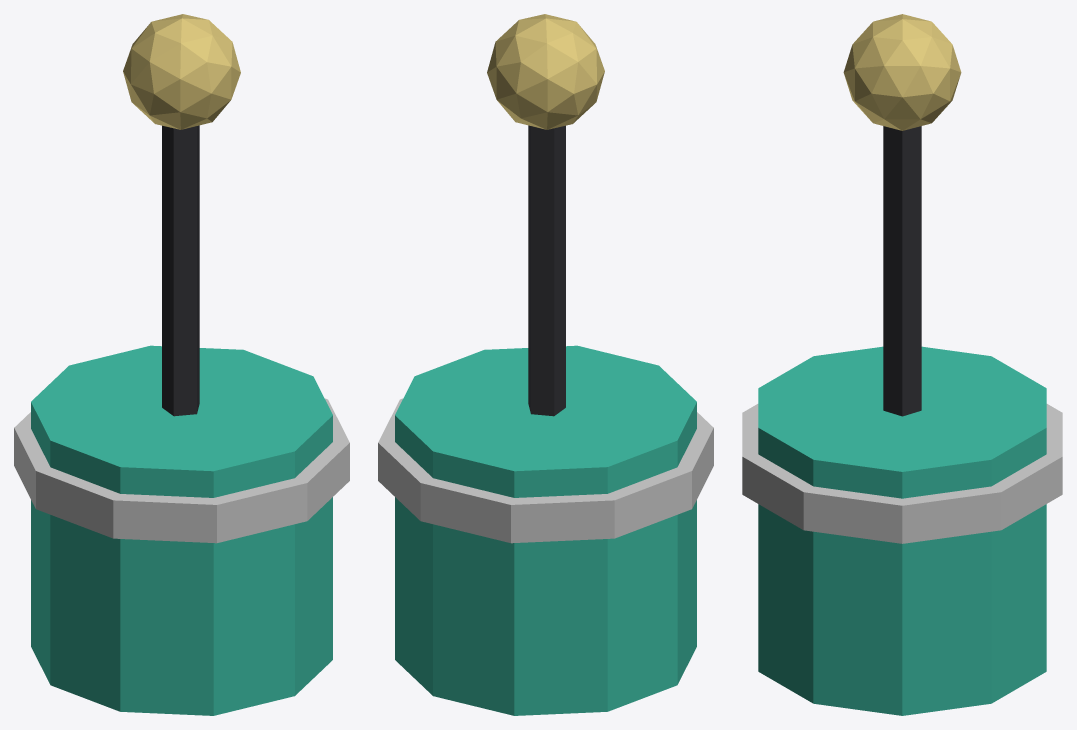
The model's file is buoy_dive.glb.
3 views of the same model, side by side, from view 1: azimuth 30°, elevation 25°; view 2: azimuth 150°, elevation 25°; view 3: azimuth 270°, elevation 25° (orthographic).
Visible parts, largest first — view 1: geometry_0; view 2: geometry_0; view 3: geometry_0.
Boxes of the visible parts, x1,y1,x2,y2 form: geometry_0: (14, 14, 349, 715); geometry_0: (378, 14, 713, 715); geometry_0: (742, 14, 1062, 715).
Size of the model in its own units: 2 by 4.15 by 1.9.
